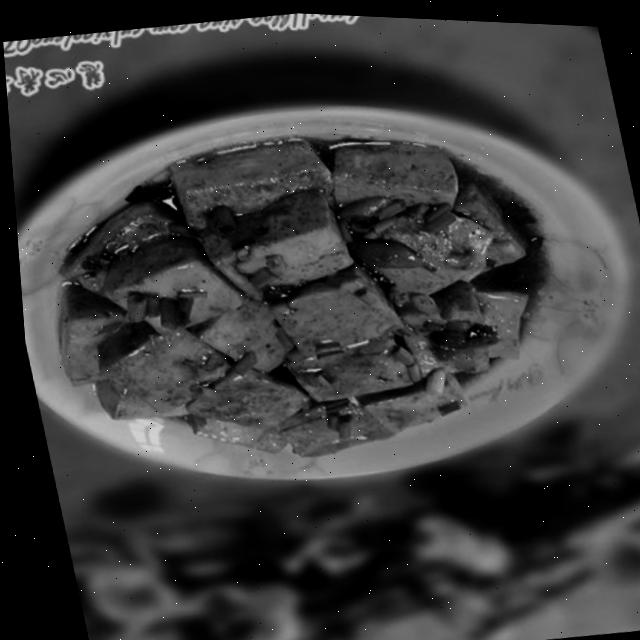豆腐料理: (1, 9, 640, 591)
